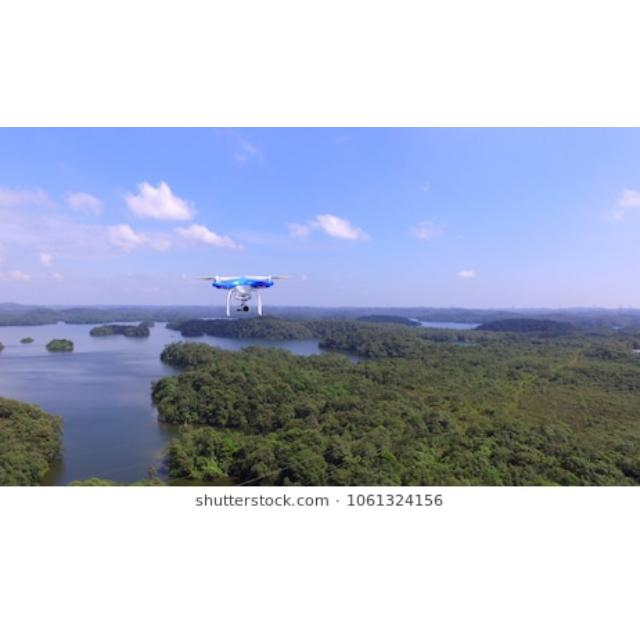Drones: (197, 272, 283, 314)
